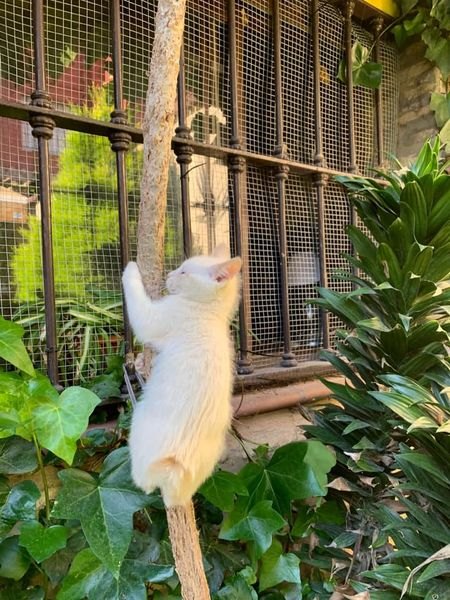cat: (107, 222, 273, 515)
